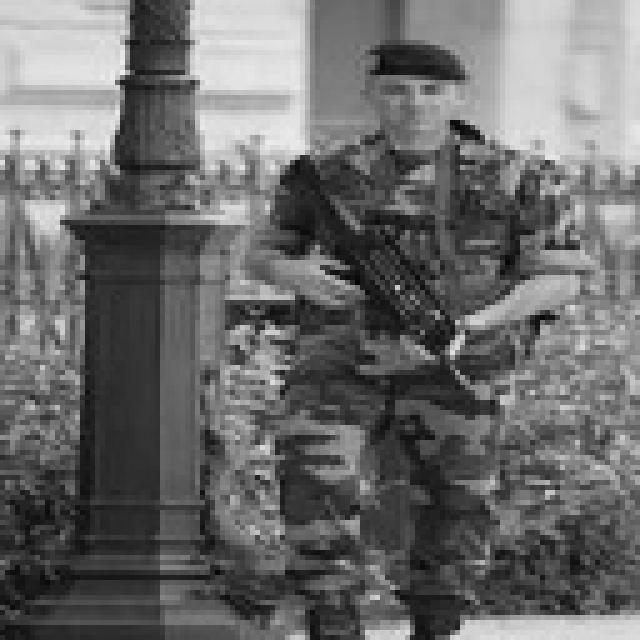Rifle: (252, 136, 506, 445)
